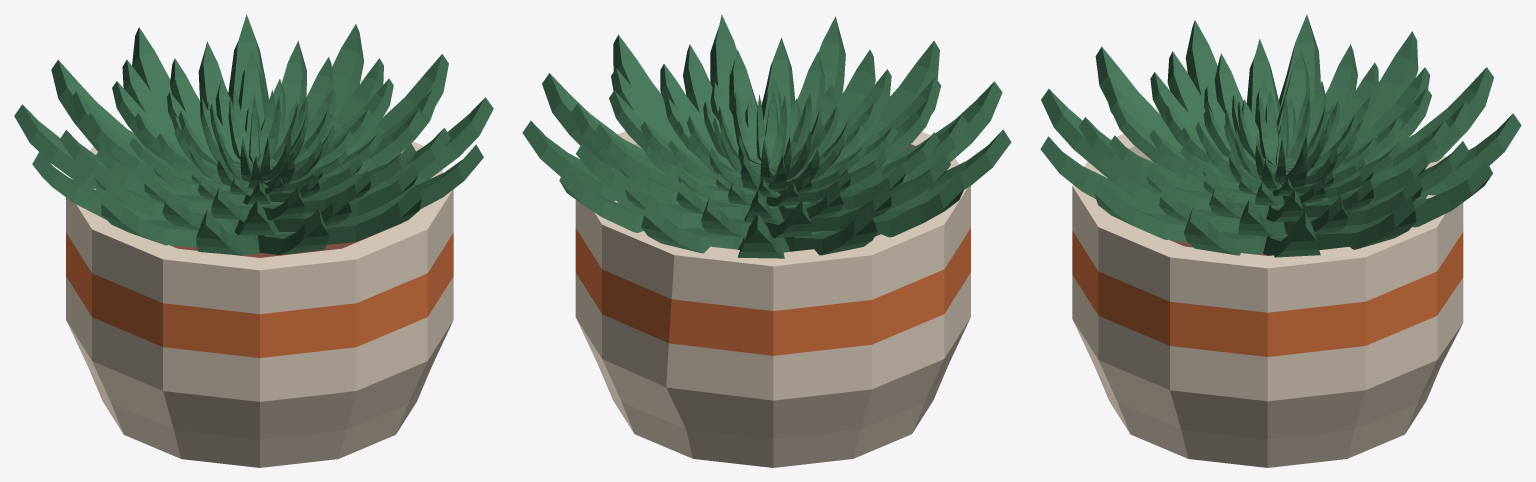
Rendered from Plant.fbx.
3 views of the same model, side by side, from view 1: azimuth 30°, elevation 25°; view 2: azimuth 150°, elevation 25°; view 3: azimuth 270°, elevation 25° (orthographic). The views are drawn at different scales.
Visible parts, largest first — view 1: Circle.091; view 2: Circle.091; view 3: Circle.091.
Part boxes in pixels (box(x1,y1,x2,y2)): Circle.091: box(14, 14, 493, 467); Circle.091: box(522, 14, 1011, 467); Circle.091: box(1040, 14, 1521, 467).
Bounding box in the file's own units: 0.4506 × 0.4476 × 0.2956.
